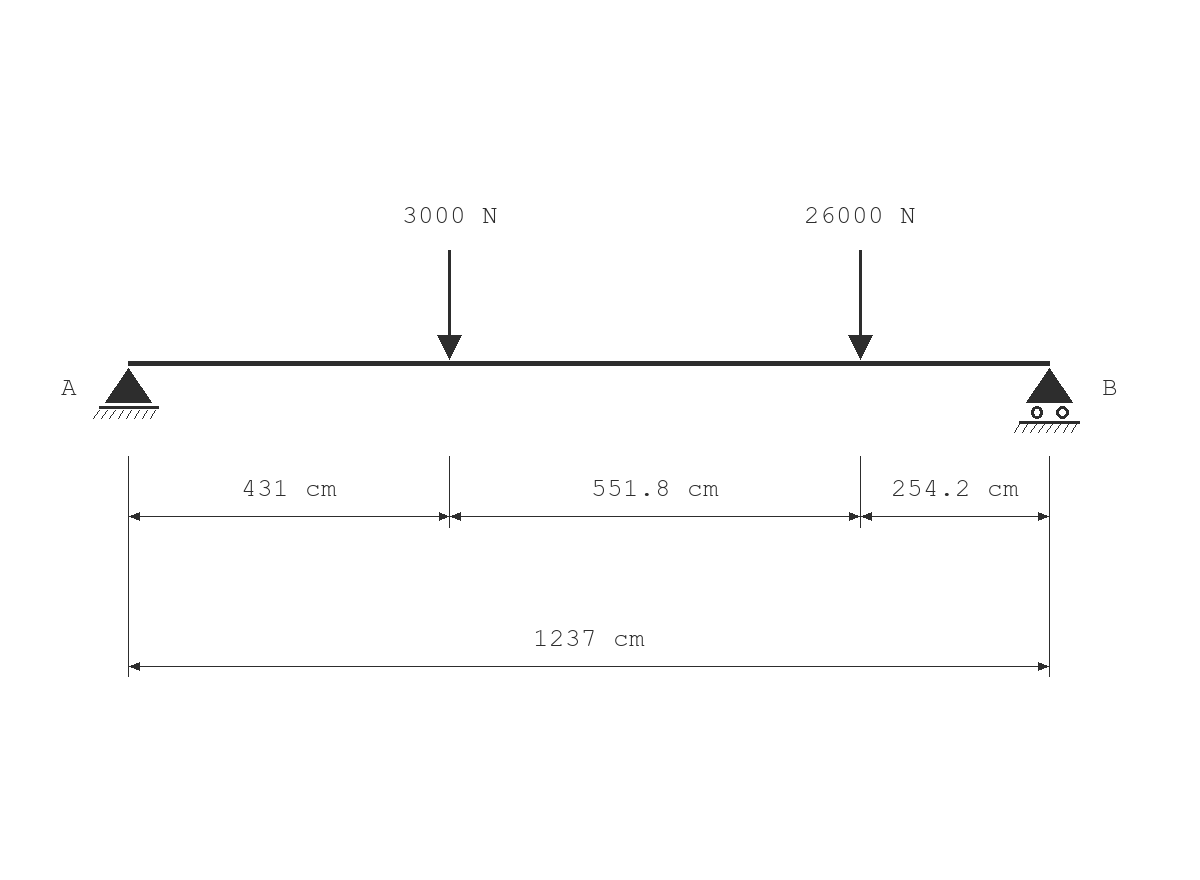pin_support: (93, 368, 159, 419)
point_load: (437, 250, 462, 360), (848, 250, 873, 360)
roller_support: (1014, 368, 1080, 433)
